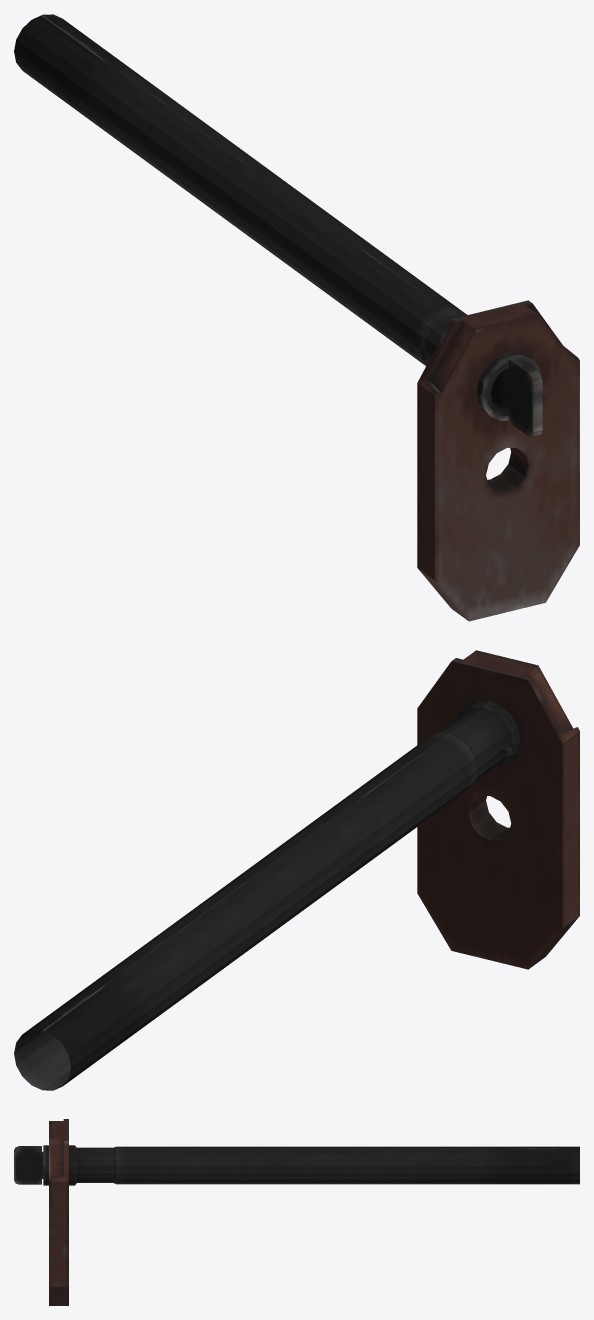
3 renders of one model, top to bottom at view 1: azimuth 30°, elevation 25°; view 2: azimuth 150°, elevation 25°; view 3: azimuth 270°, elevation 25°, orthographic. The views are drawn at different scales.
Visible parts, largest first — view 1: TW_64ca3d3954fc657e230529cc_PZ_Import; view 2: TW_64ca3d3954fc657e230529cc_PZ_Import; view 3: TW_64ca3d3954fc657e230529cc_PZ_Import.
Part boxes in pixels (left/top/right/bottom): TW_64ca3d3954fc657e230529cc_PZ_Import: left=14, top=14, right=579, bottom=621; TW_64ca3d3954fc657e230529cc_PZ_Import: left=14, top=650, right=579, bottom=1090; TW_64ca3d3954fc657e230529cc_PZ_Import: left=14, top=1119, right=579, bottom=1305.
Bounding box in the file's own units: 0.0179 × 0.1055 × 0.034.
1 material, 1 textured.
